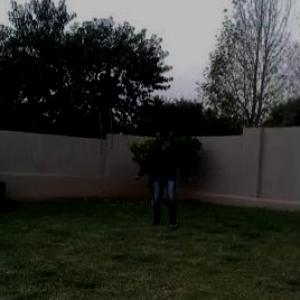land: (128, 108, 212, 243)
